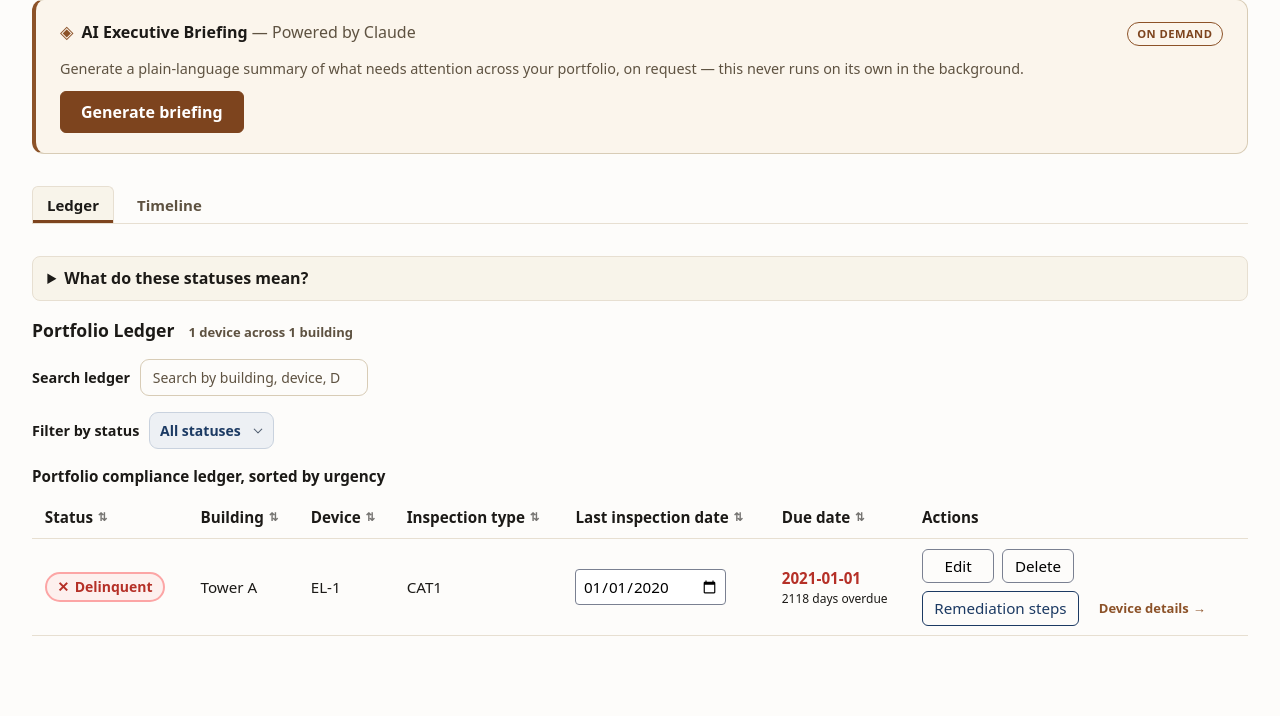
it: App › cancels out of edit mode without saving and returns the form to create mode
(page scrolled)
What coordinates should you click on to do the following:
click the button with aria-label "edit el-1"
I would click on:
 (958, 566)
Its box is [922, 549, 994, 583].
(page scrolled)
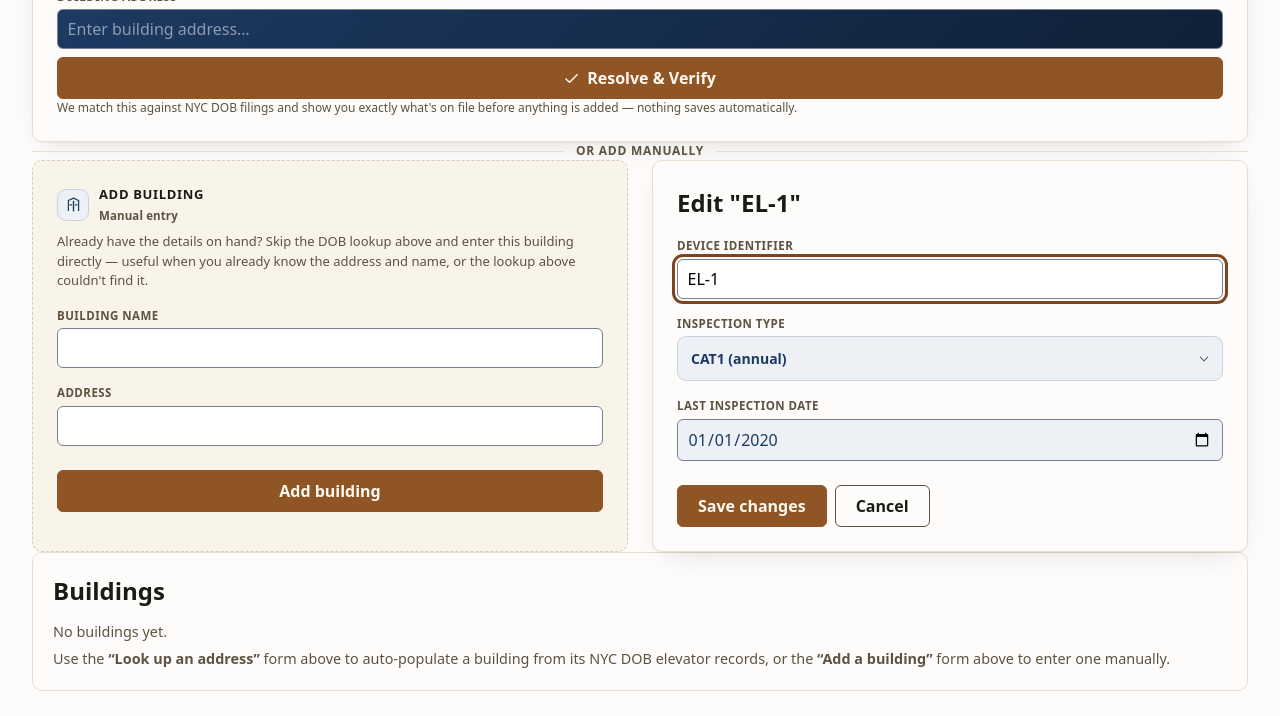
What coordinates should you click on to do the following:
click the button "Cancel"
I would click on:
 (882, 506)
Its box is [835, 485, 930, 527].
(page scrolled)
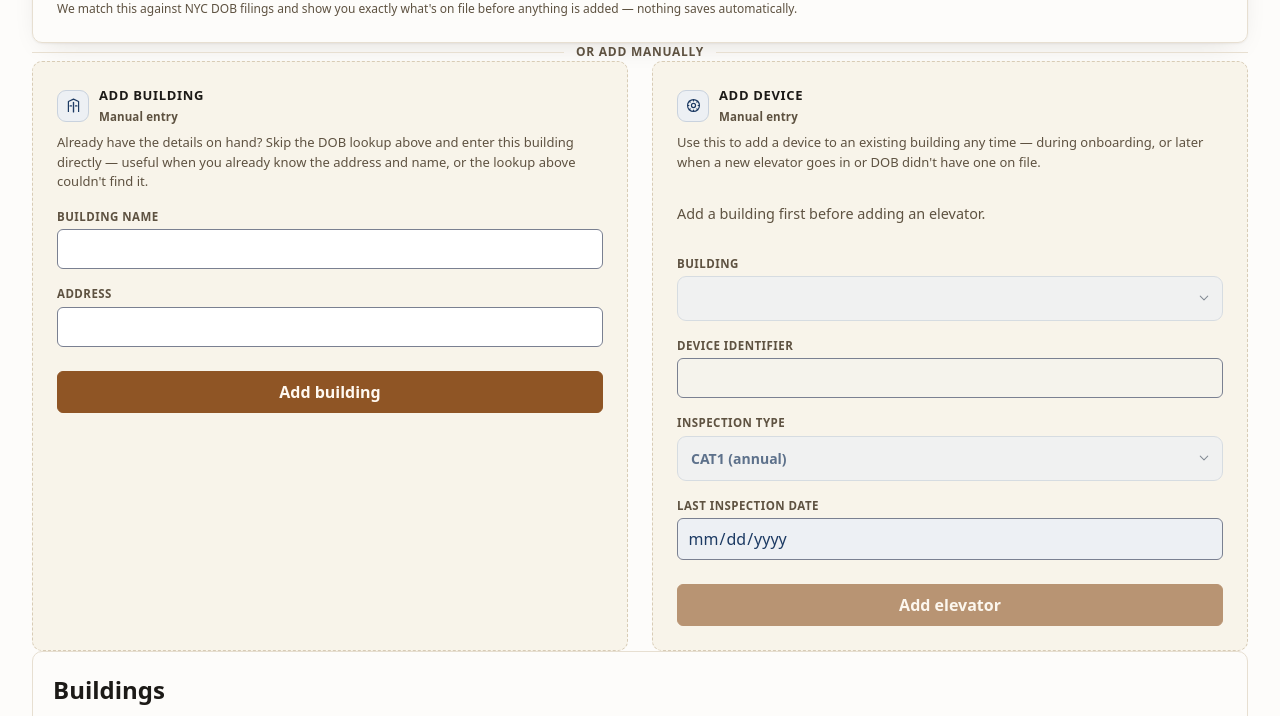
expect the form named "add an elevator" is shown: met, box [652, 61, 1248, 651]
